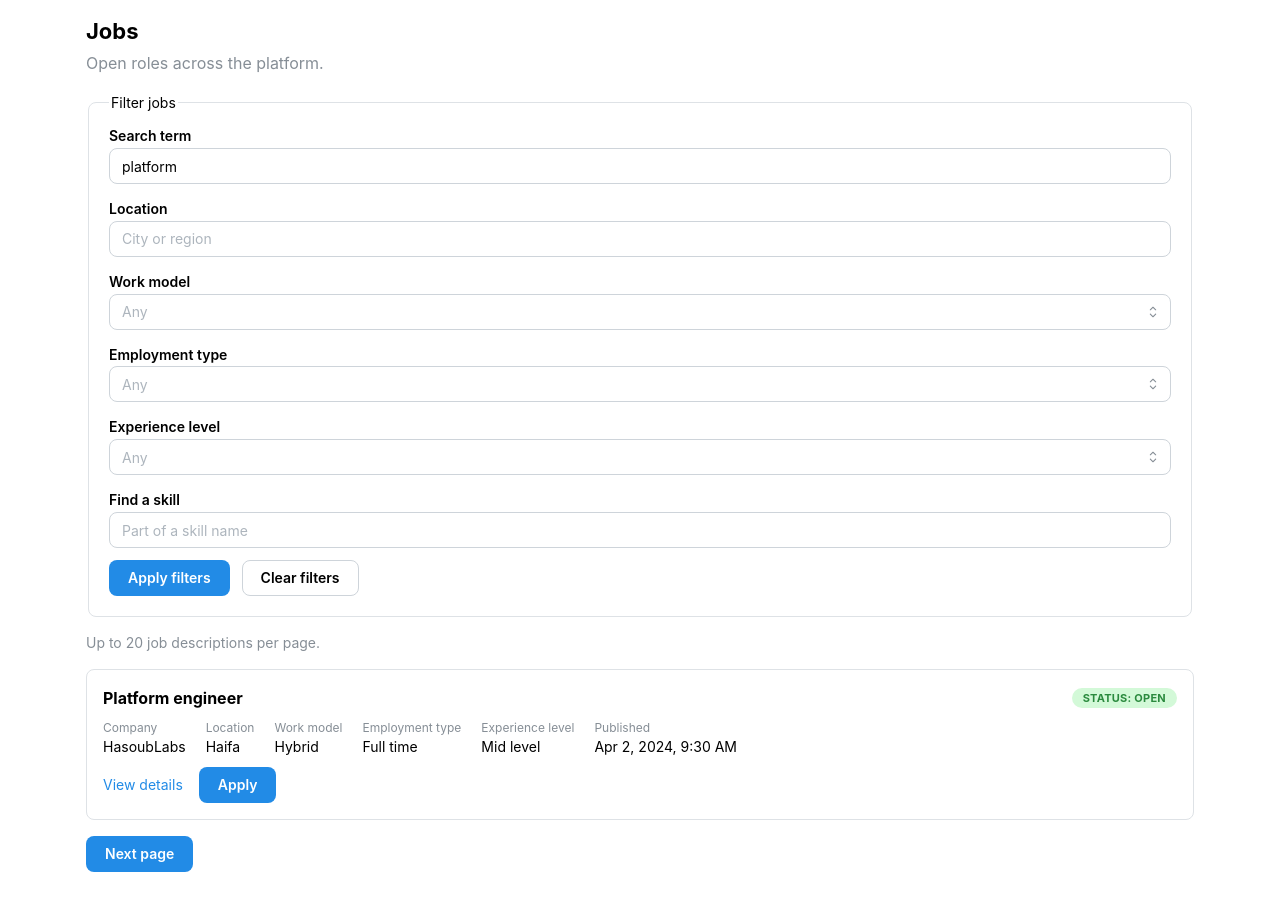
keyset pagination (Req 12 AC4) › sends the advertised token as the keyset cursor of the next request
Click the button with test id "jobs-next-page": (140, 854) x1=86 y1=836 x2=193 y2=872
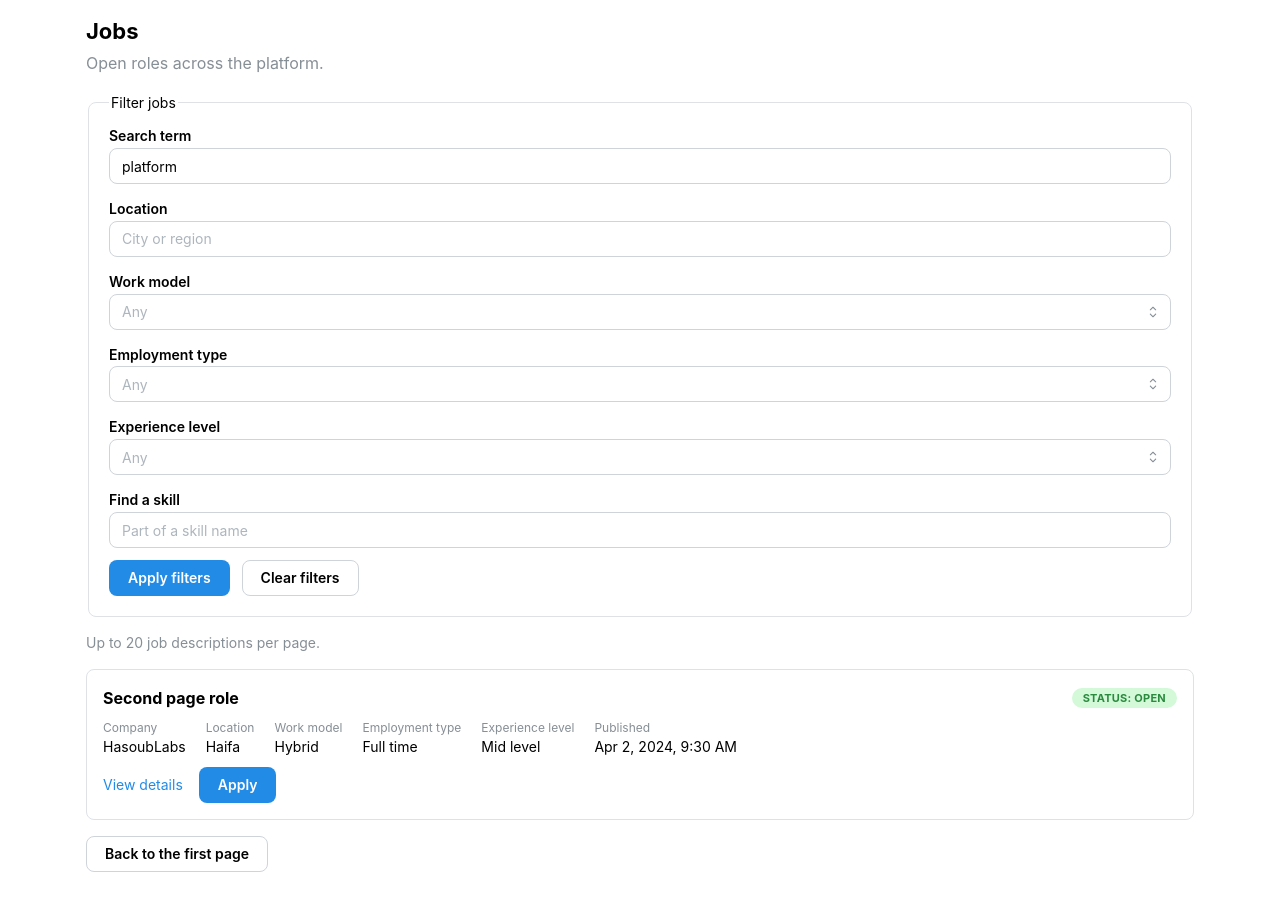
Check: the list item with test id "job-card-jd-2" is shown, box x1=86 y1=669 x2=1194 y2=820
